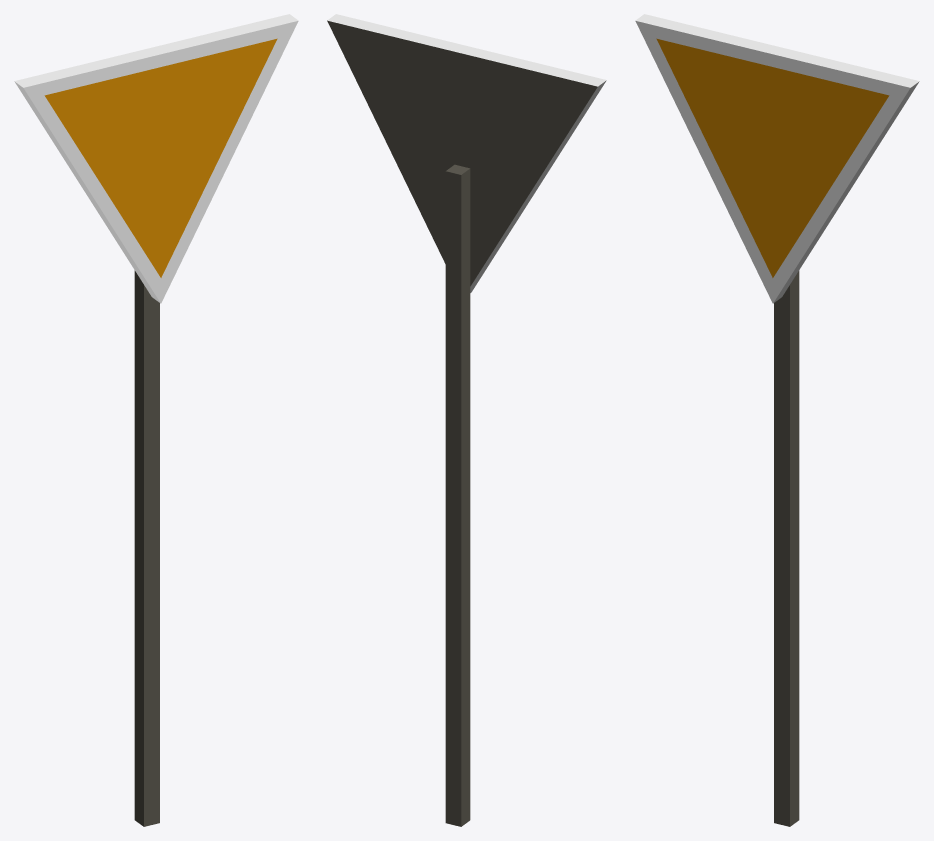
The model's file is CitySignGiveWay.fbx.
The picture shows the model from 3 angles, left to right: view 1: azimuth 30°, elevation 25°; view 2: azimuth 150°, elevation 25°; view 3: azimuth 330°, elevation 25°; orthographic projection.
Visible parts, largest first — view 1: CitySignGiveWay; view 2: CitySignGiveWay; view 3: CitySignGiveWay.
Boxes of the visible parts, x1,y1,x2,y2 form: CitySignGiveWay: (14, 14, 298, 826); CitySignGiveWay: (327, 14, 606, 826); CitySignGiveWay: (635, 14, 919, 826).
Bounding box in the file's own units: 0.1567 × 0.4229 × 0.0181.
